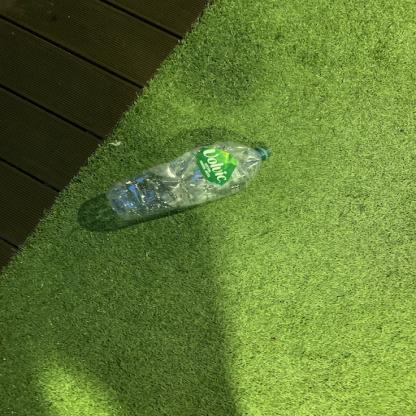trash: (102, 138, 274, 222)
